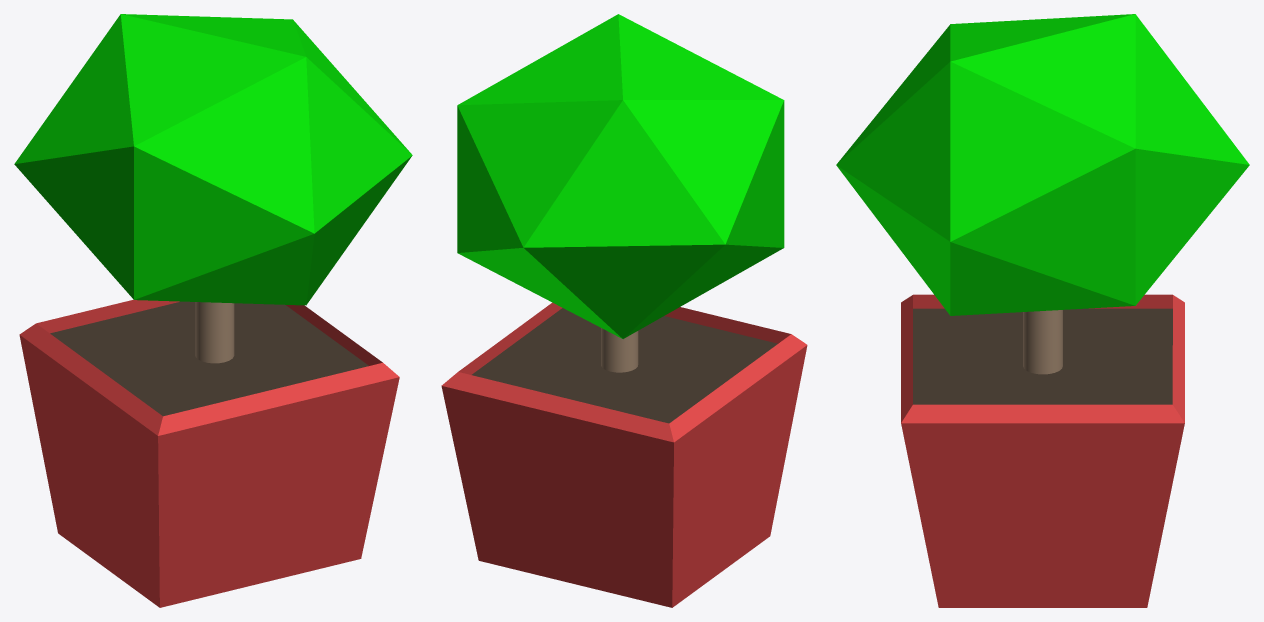
File: RedBush.fbx
The picture shows the model from 3 angles, left to right: view 1: azimuth 30°, elevation 25°; view 2: azimuth 150°, elevation 25°; view 3: azimuth 270°, elevation 25°; orthographic projection. The views are drawn at different scales.
Visible parts, largest first — view 1: pCube1, pPlatonic2, pCylinder2; view 2: pCube1, pPlatonic2, pCylinder2; view 3: pPlatonic2, pCube1, pCylinder2.
Part boxes in pixels (x1,y1,x2,y2): pCube1: (19,299,399,607); pPlatonic2: (14,14,412,305); pCylinder2: (195,302,234,363); pCube1: (441,302,807,607); pPlatonic2: (457,14,784,338); pCylinder2: (601,328,638,372); pPlatonic2: (836,14,1249,315); pCube1: (901,294,1184,607); pCylinder2: (1023,310,1062,374).
Bounding box in the file's own units: 75.72 × 120 × 86.04.
